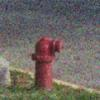a fire hydrant: (32, 37, 62, 91)
